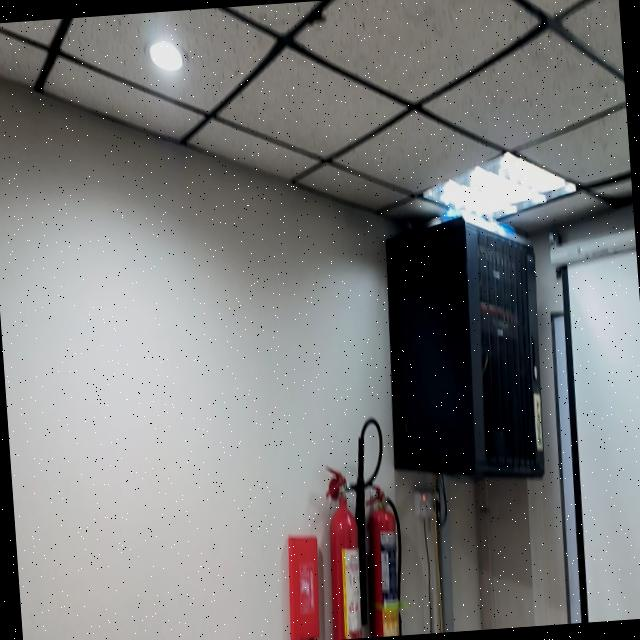Fire Extinguisher: (325, 467, 361, 640), (365, 484, 399, 637)
Light: (423, 151, 573, 219), (148, 39, 181, 70)
